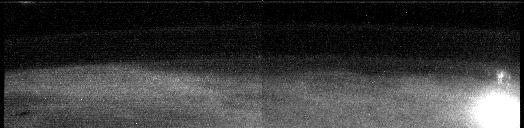positive: (491, 67, 514, 92)
